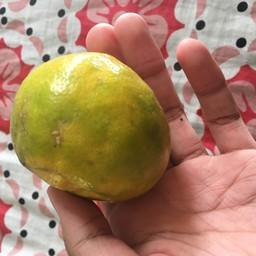Good_orange: (5, 47, 176, 208)
